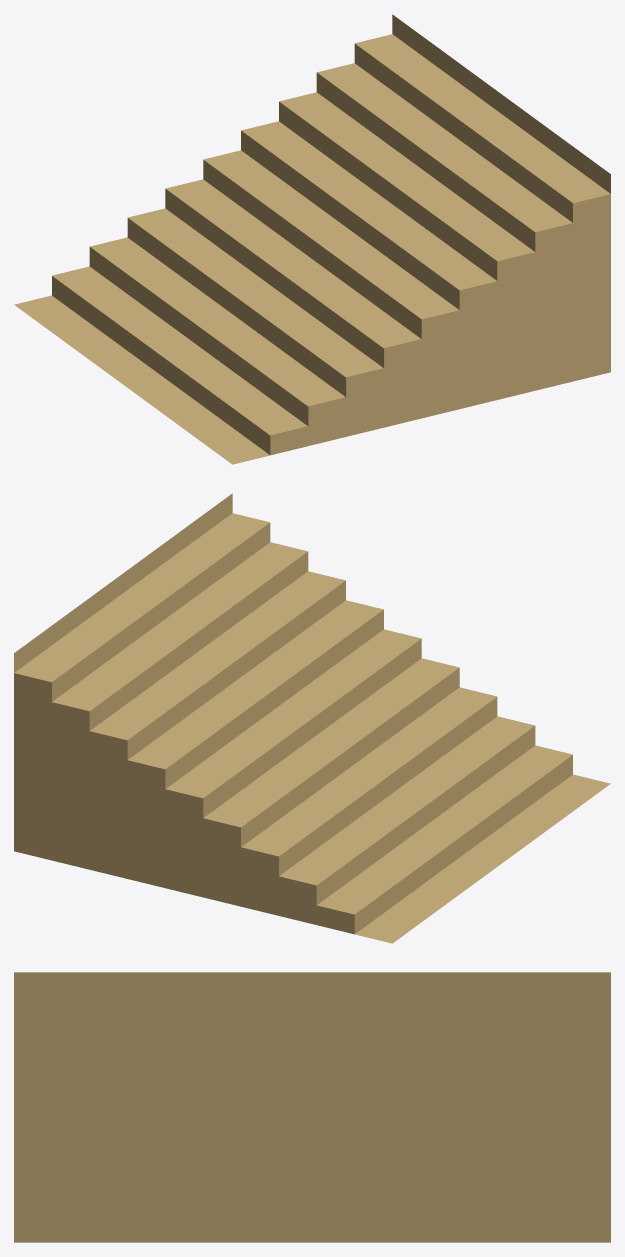
Rendered from stair2.fbx.
3 views of the same model, one above another, from view 1: azimuth 30°, elevation 25°; view 2: azimuth 150°, elevation 25°; view 3: azimuth 270°, elevation 25° (orthographic). The views are drawn at different scales.
Parts seen in each view (by area): view 1: Cube.412; view 2: Cube.412; view 3: Cube.412.
Part boxes in pixels (bbox=[...]): Cube.412: bbox=[14, 14, 610, 464]; Cube.412: bbox=[14, 493, 610, 943]; Cube.412: bbox=[14, 972, 610, 1242].
Size of the model in its own units: 200 by 200 by 100.
